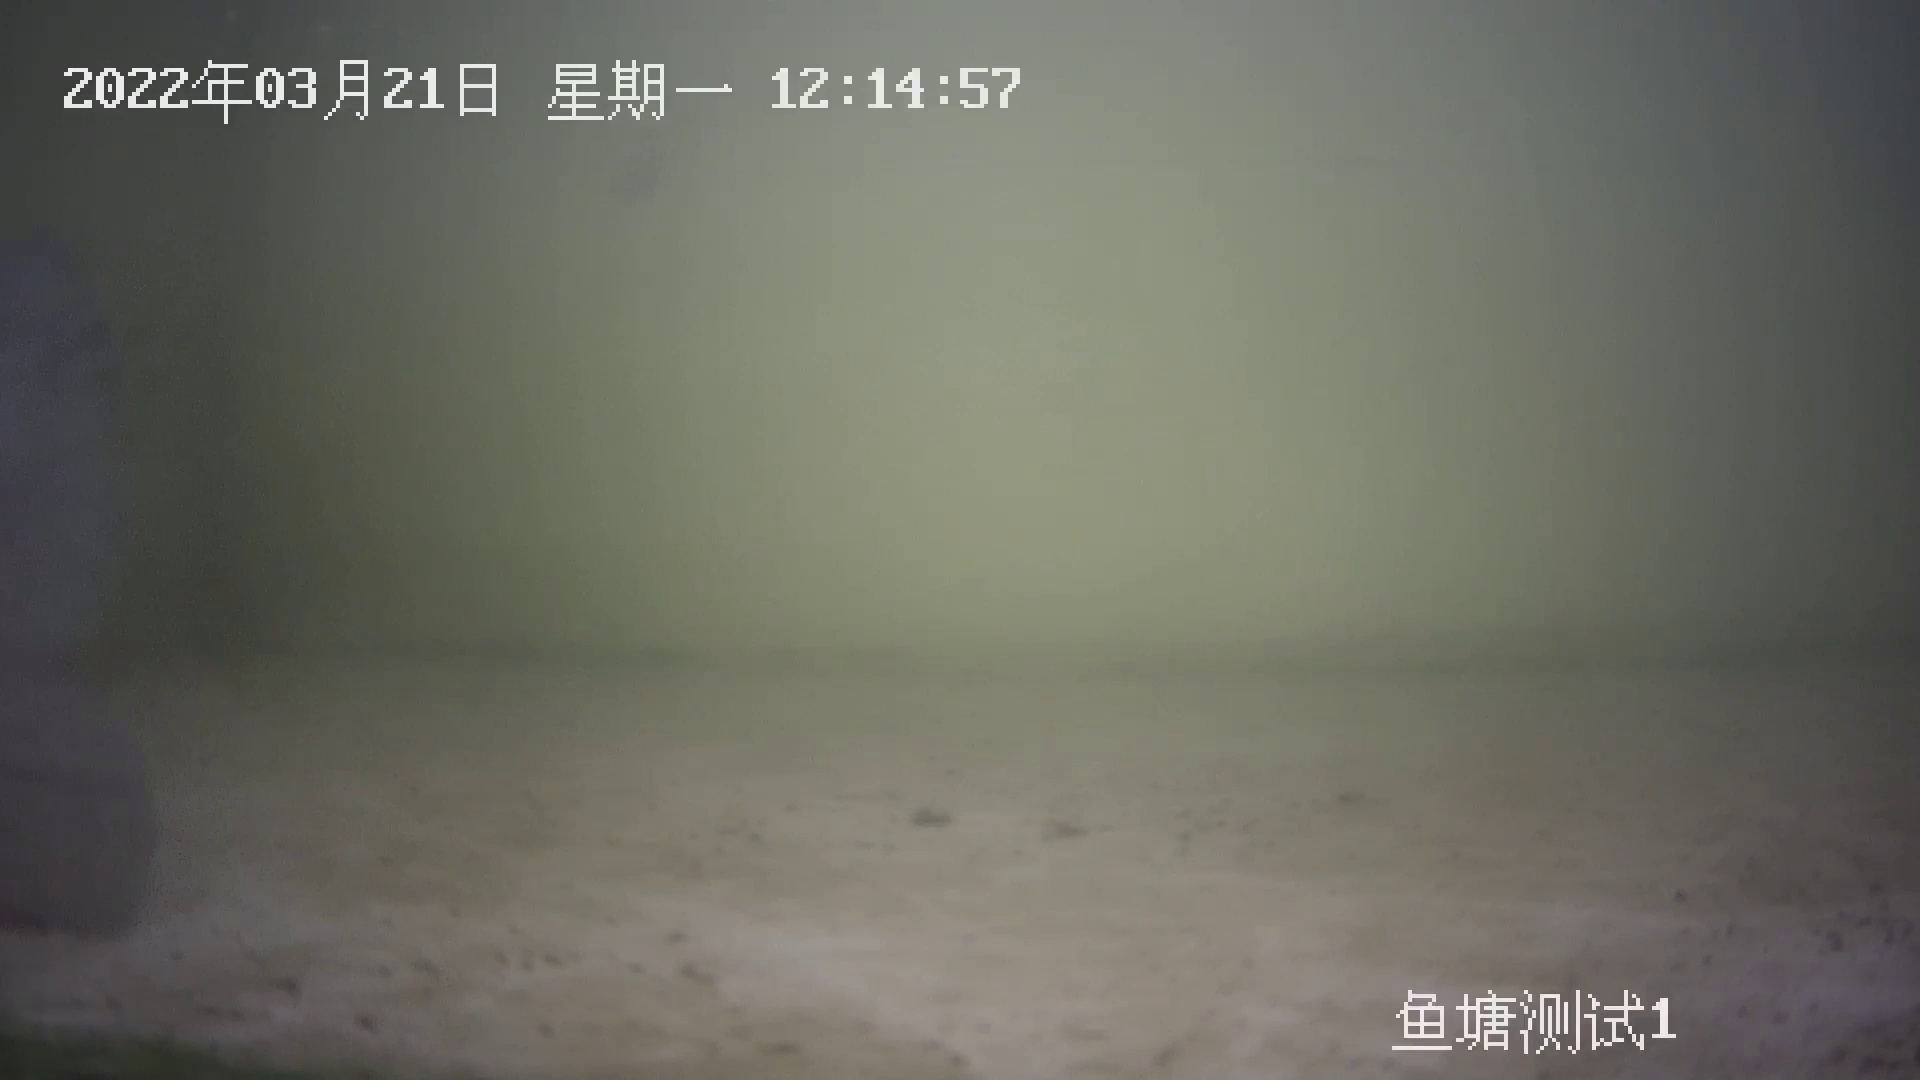fry: (1, 218, 189, 964)
